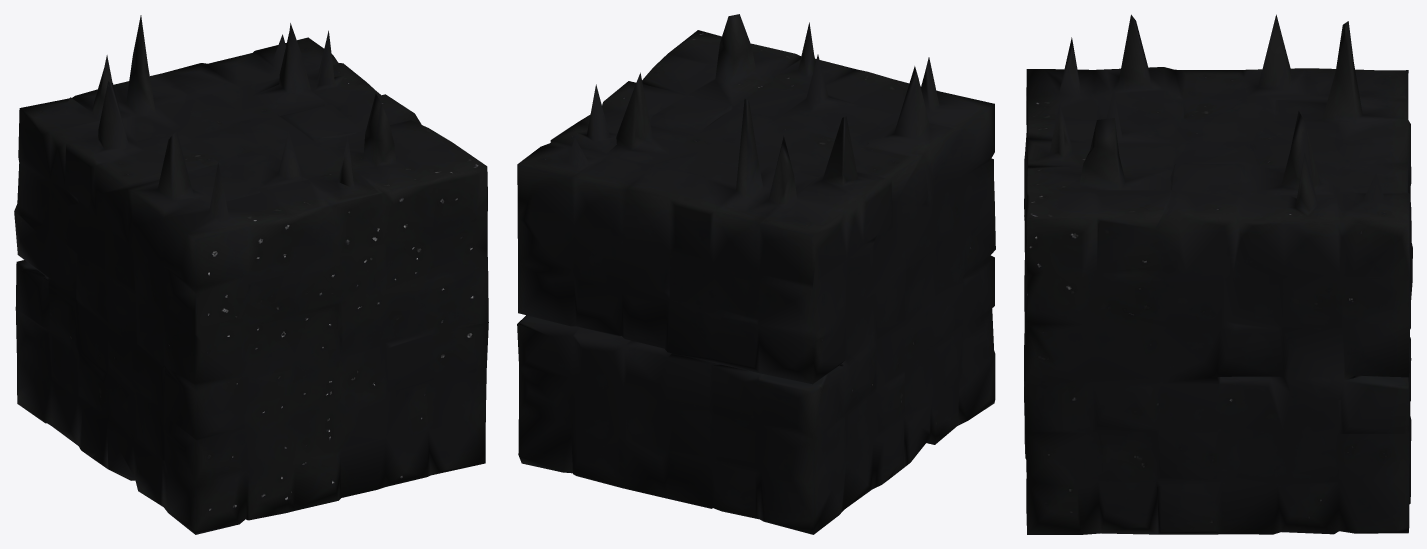
File: Wall_C4_B.glb
The picture shows the model from 3 angles, left to right: view 1: azimuth 30°, elevation 25°; view 2: azimuth 150°, elevation 25°; view 3: azimuth 270°, elevation 25°; orthographic projection. The views are drawn at different scales.
Visible parts, largest first — view 1: tripo_node_09476663-a7be-4028-8b99-41dfc8c4db20; view 2: tripo_node_09476663-a7be-4028-8b99-41dfc8c4db20; view 3: tripo_node_09476663-a7be-4028-8b99-41dfc8c4db20.
Part boxes in pixels (left/top/right/bottom): tripo_node_09476663-a7be-4028-8b99-41dfc8c4db20: left=14, top=15, right=488, bottom=534; tripo_node_09476663-a7be-4028-8b99-41dfc8c4db20: left=517, top=14, right=995, bottom=534; tripo_node_09476663-a7be-4028-8b99-41dfc8c4db20: left=1024, top=14, right=1412, bottom=534.
Bounding box in the file's own units: 0.8096 × 1 × 0.8503.
Materials: 1 (1 with a texture image).
